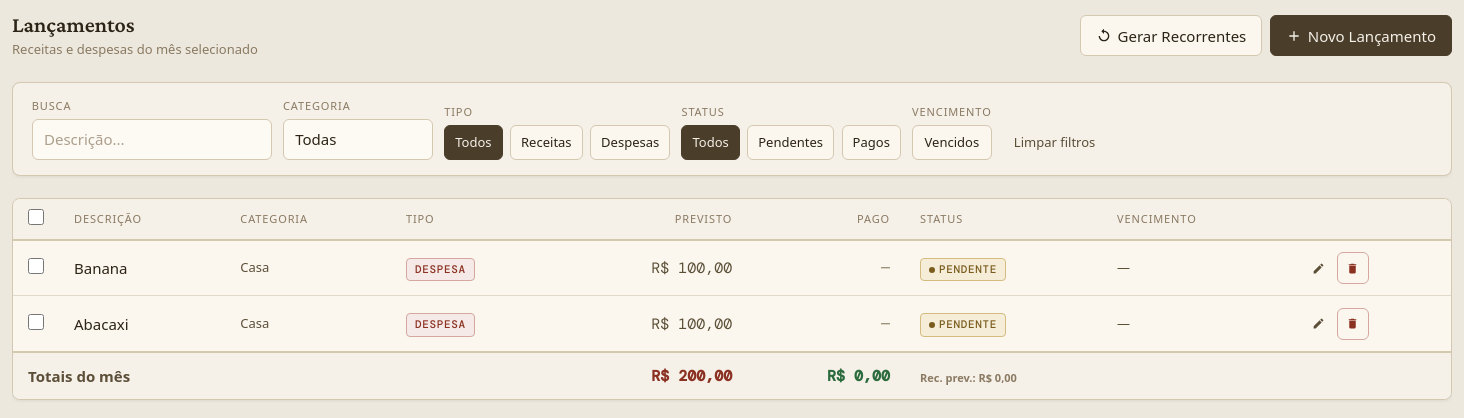
Test: TransactionsComponent › ordenação de colunas (setSort) › clicar no <th> Descrição ordena e mostra o indicador ▲, clicar de novo mostra ▼
Click the column heading "Descrição". click: (142,220)
box: [59, 199, 225, 240]
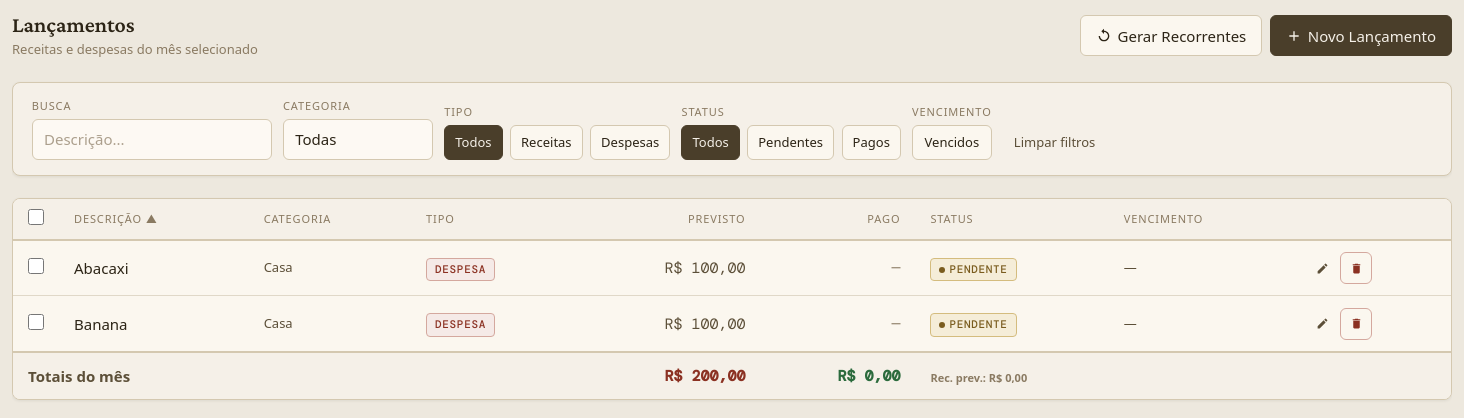
Now the column heading "Descrição ▲" is shown
Click the column heading "Descrição ▲". click: (154,220)
box: [59, 199, 249, 240]
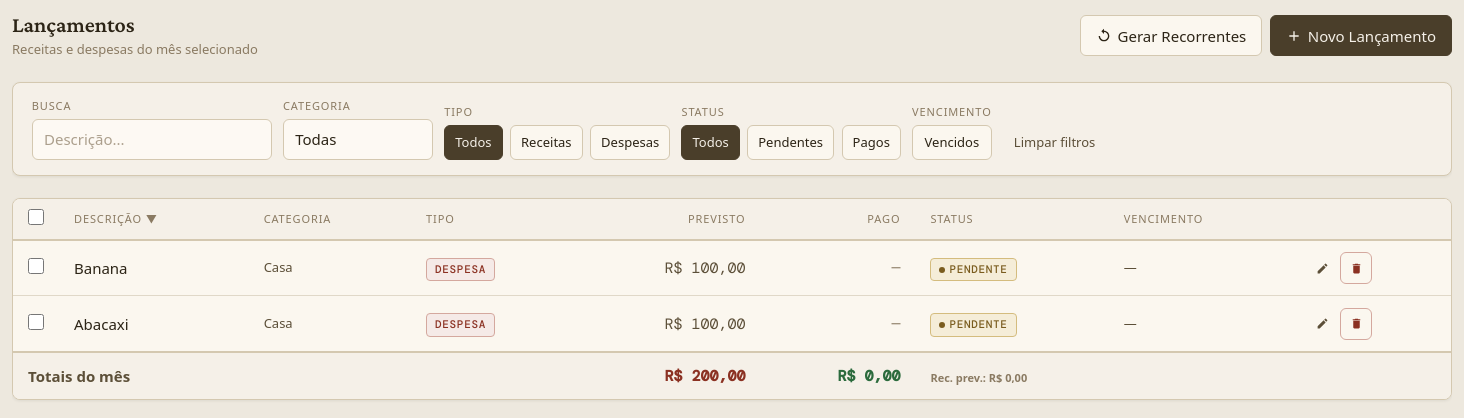
Now the column heading "Descrição ▼" is shown, box [59, 199, 249, 240]
